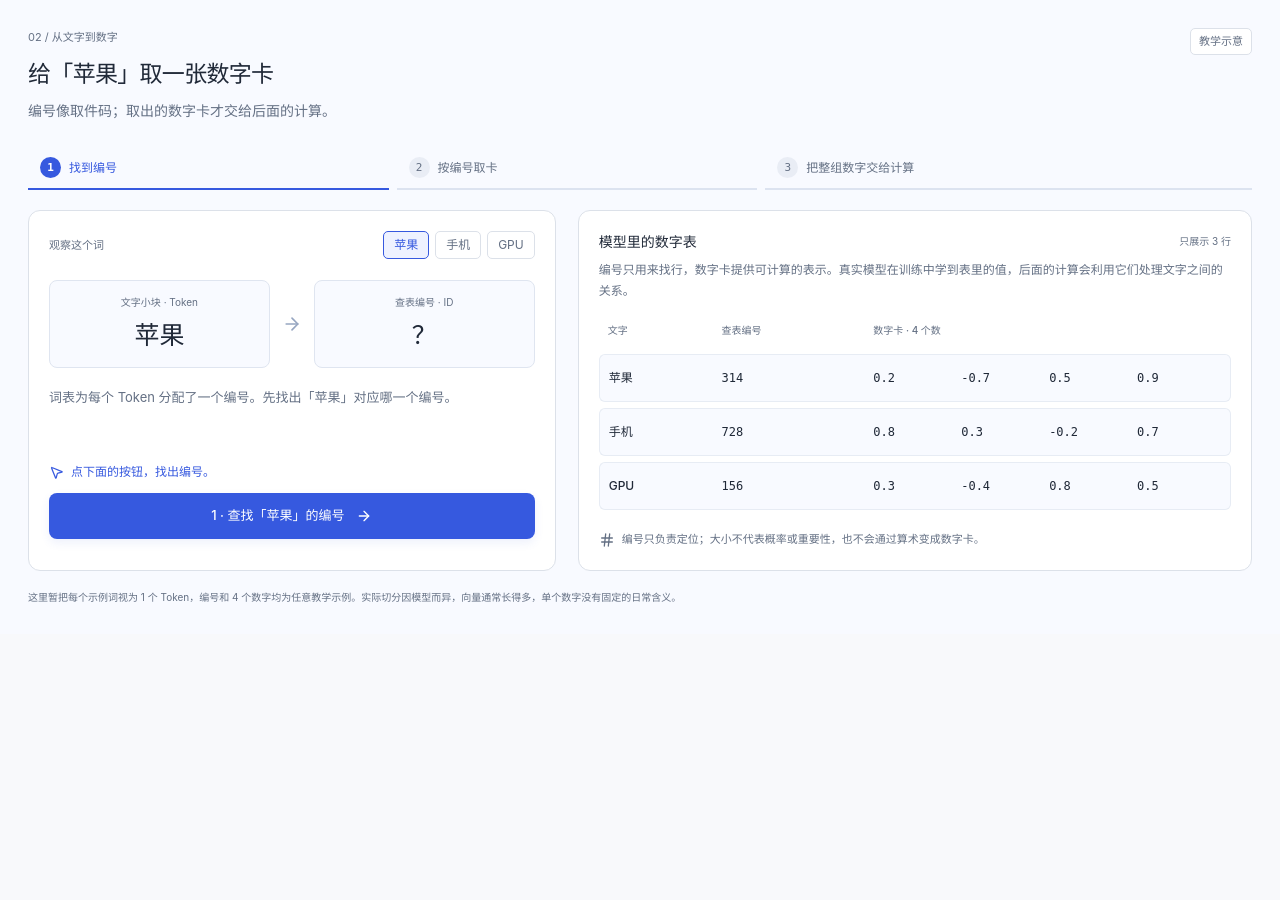
it: EmbeddingDemo › looks up one word, copies the exact row, and completes only when the vector is handed off
expect the button "取出的整组数字" is not shown: met
Click the button "1 · 查找「苹果」的编号" at (292, 516), box [49,493,535,539]
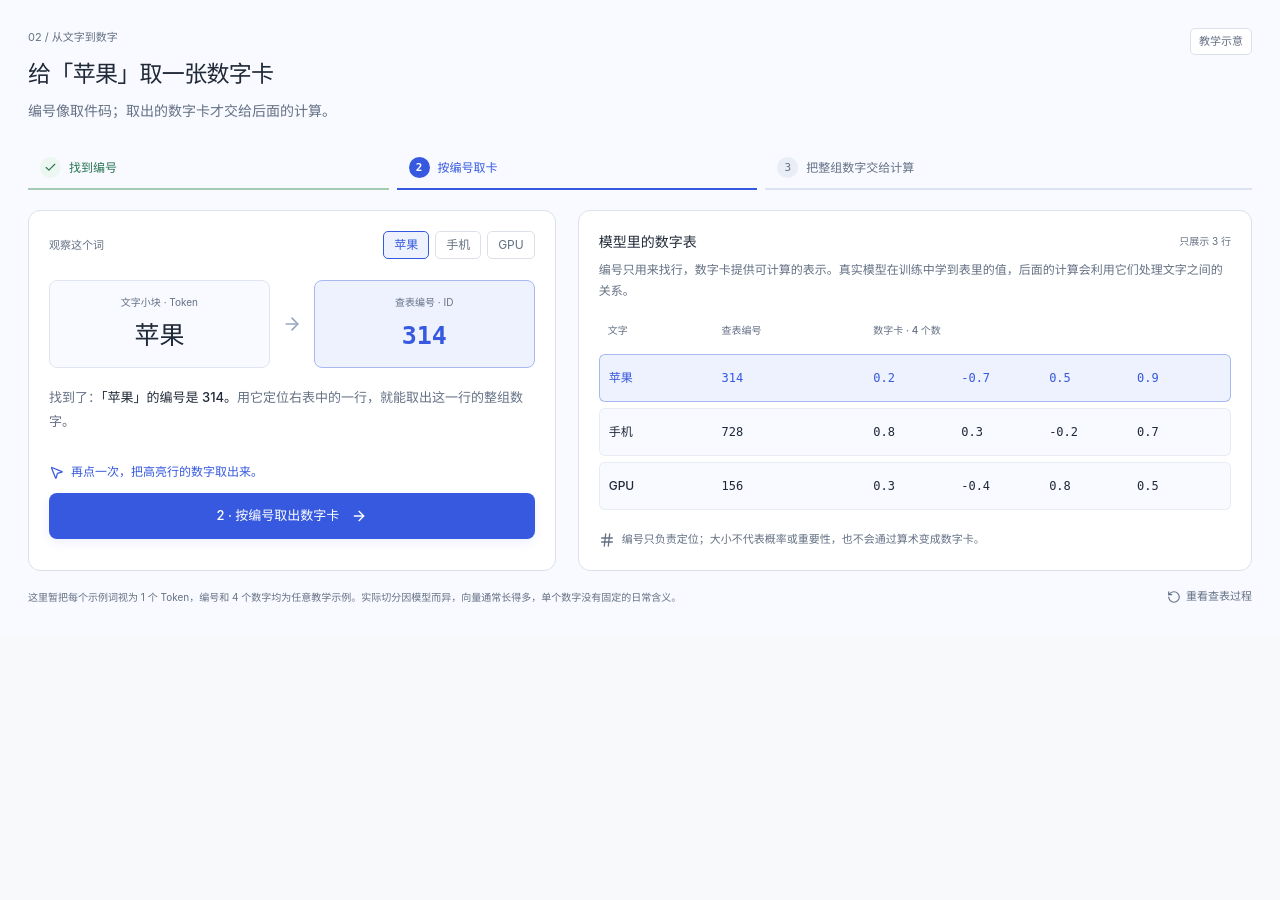
expect the text "314" in the row of "-0.7" is shown: met, box [722,372,743,386]
Click the button "2 · 按编号取出数字卡" at (292, 516), box [49,493,535,539]
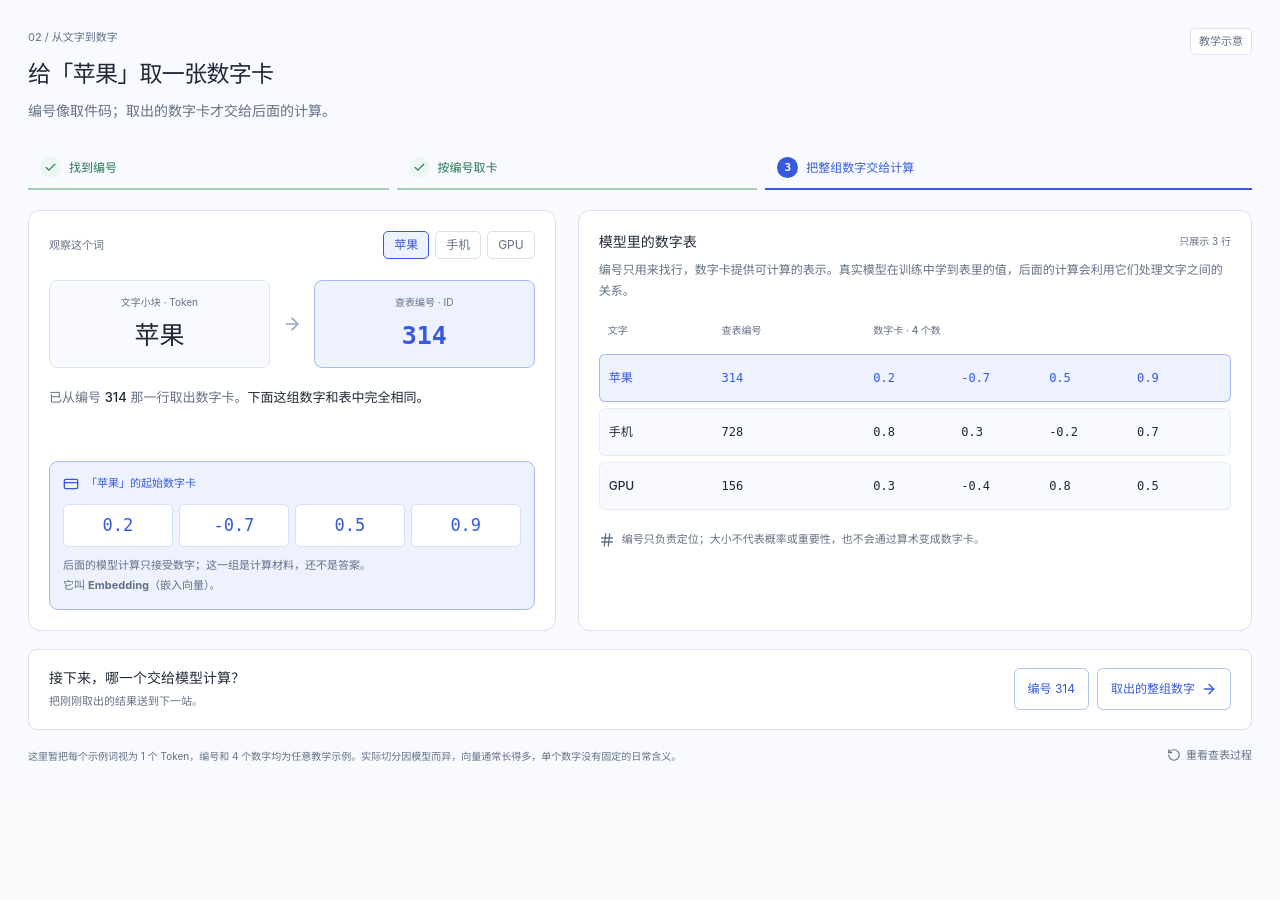
expect the text "0.2" below "」的起始数字卡" is shown: met, box [103,515,133,535]
expect the text "-0.7" below "」的起始数字卡" is shown: met, box [213,515,254,535]
expect the text "0.5" below "」的起始数字卡" is shown: met, box [334,515,365,535]
Click the button "编号 314" at (1051, 690), box [1014,668,1089,710]
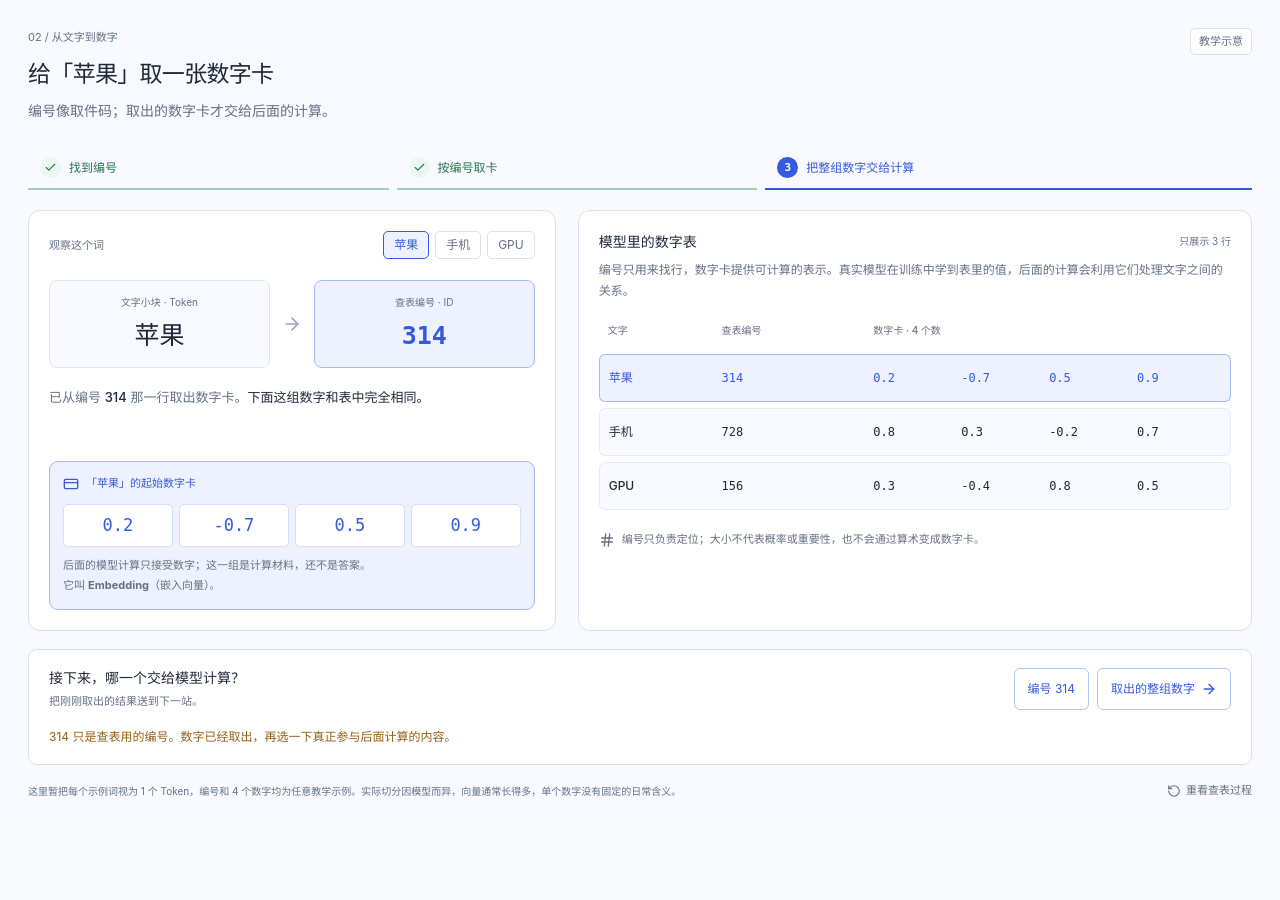
expect the message shows "314 只是查表用的编号": met, box [49,729,456,744]
Click the button "取出的整组数字" at (1164, 690), box [1097,668,1231,710]
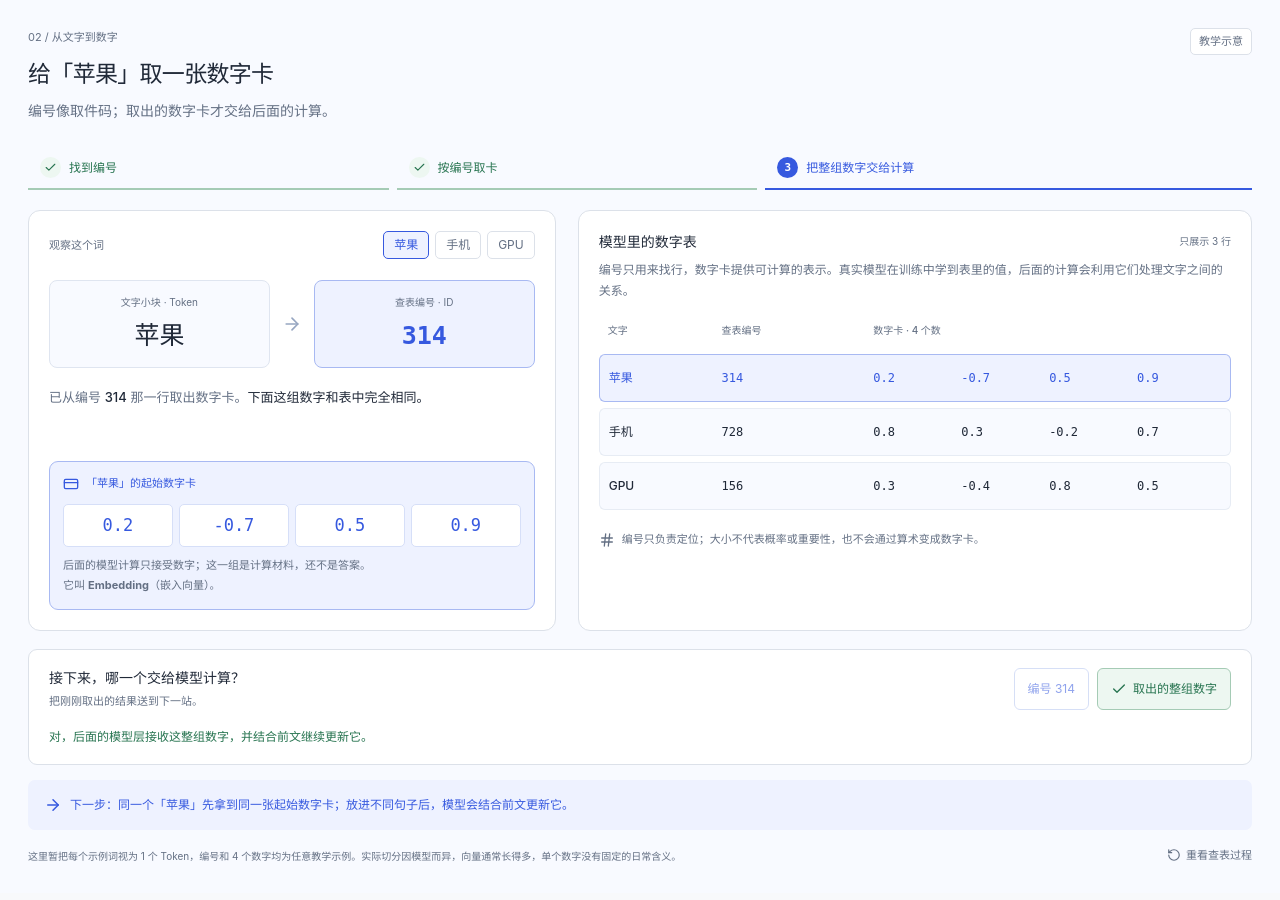
expect the message shows "结合前文继续更新它": met, box [49,729,373,744]
expect the button "取出的整组数字" is disabled: met, box [1097,668,1231,710]
